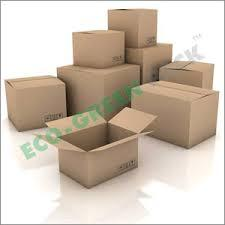Cardboard: (3, 2, 225, 205)
